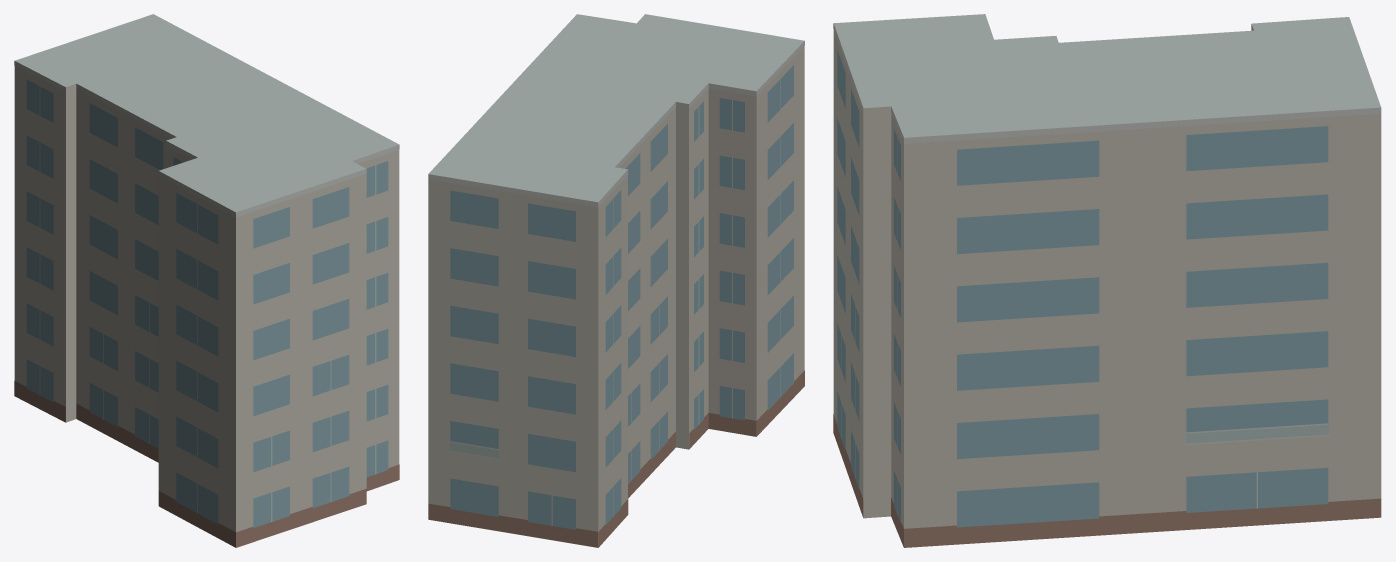
Rendered from survey-upis-32745622.glb.
The picture shows the model from 3 angles, left to right: view 1: azimuth 30°, elevation 25°; view 2: azimuth 150°, elevation 25°; view 3: azimuth 270°, elevation 25°; orthographic projection. The views are drawn at different scales.
Parts seen in each view (by area): view 1: survey-upis-32745622.tmp; view 2: survey-upis-32745622.tmp; view 3: survey-upis-32745622.tmp.
Boxes of the visible parts, x1,y1,x2,y2 form: survey-upis-32745622.tmp: (14,14,399,547); survey-upis-32745622.tmp: (428,14,804,547); survey-upis-32745622.tmp: (833,14,1381,547).
Bounding box in the file's own units: 10.82 × 16.7 × 20.23.
